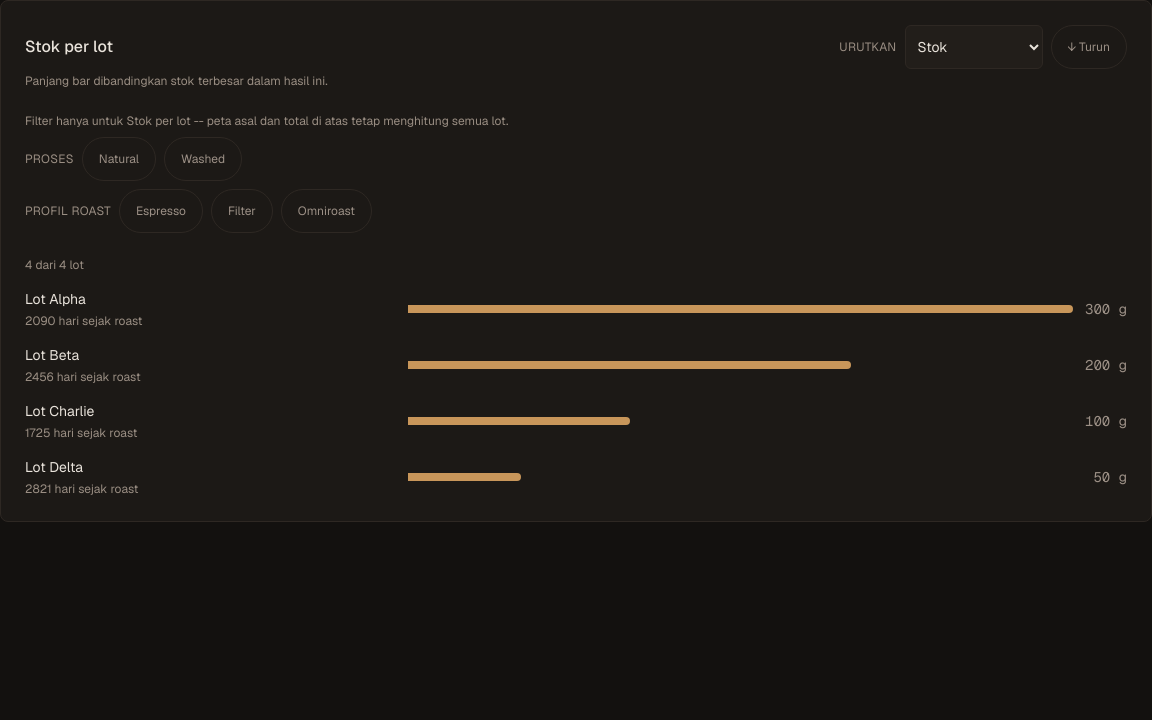
Test: StockBars jumlah hasil dan teks penjelas › menampilkan jumlah hasil dari total, dan ikut berubah saat difilter
Expected: the text "4 dari 4 lot" is shown, [25,257,84,273]
Click the button "Washed" at (203, 159), box [164,137,242,181]
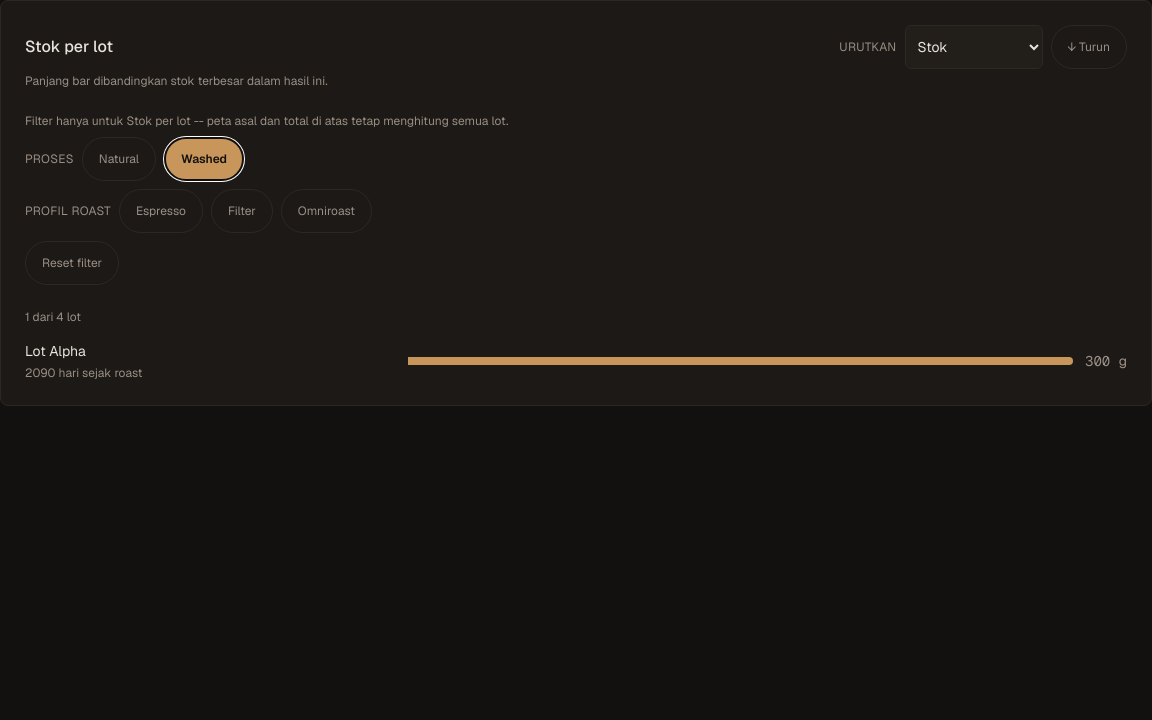
Now the text "1 dari 4 lot" is shown, box [25,309,81,325]
